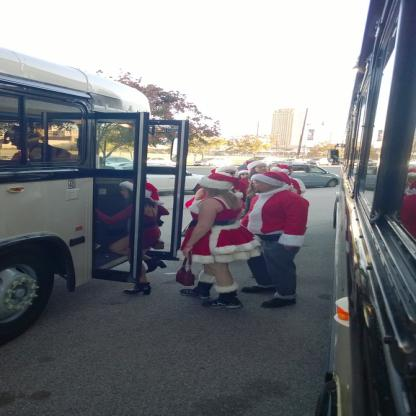Bus: (0, 44, 187, 337), (326, 0, 416, 416)
